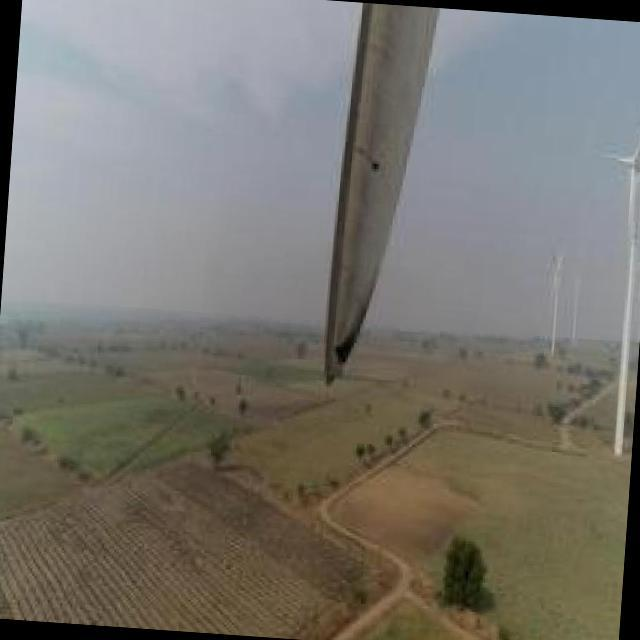Dirt: (324, 4, 429, 382)
Oil LEAKAGE: (337, 268, 385, 360)
Pin Hole: (370, 158, 384, 172)
